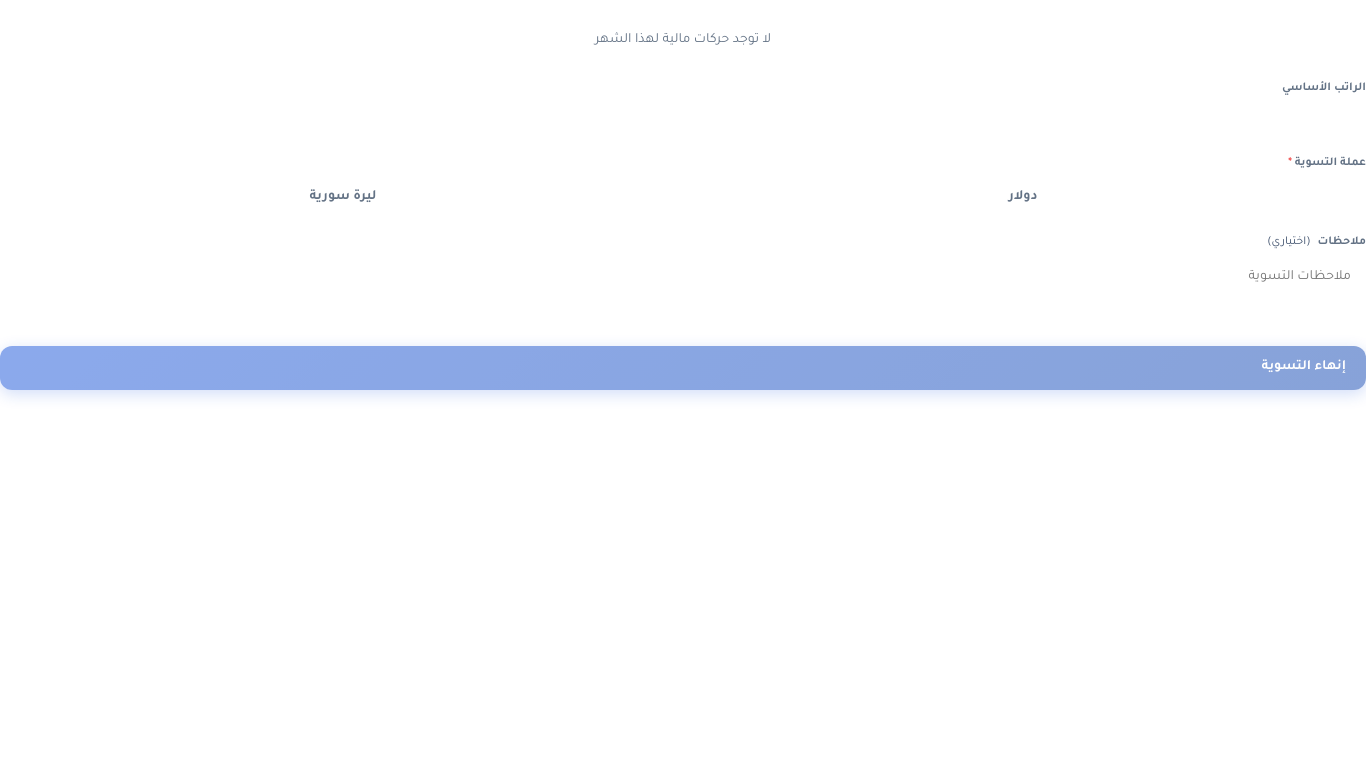
Scenario: SettlementDraftView › shows the "already finalized elsewhere" message when finalize rejects with a unique-constraint style error
Click the button with test id "currency-usd" at (1023, 198), box [685,181,1361,214]
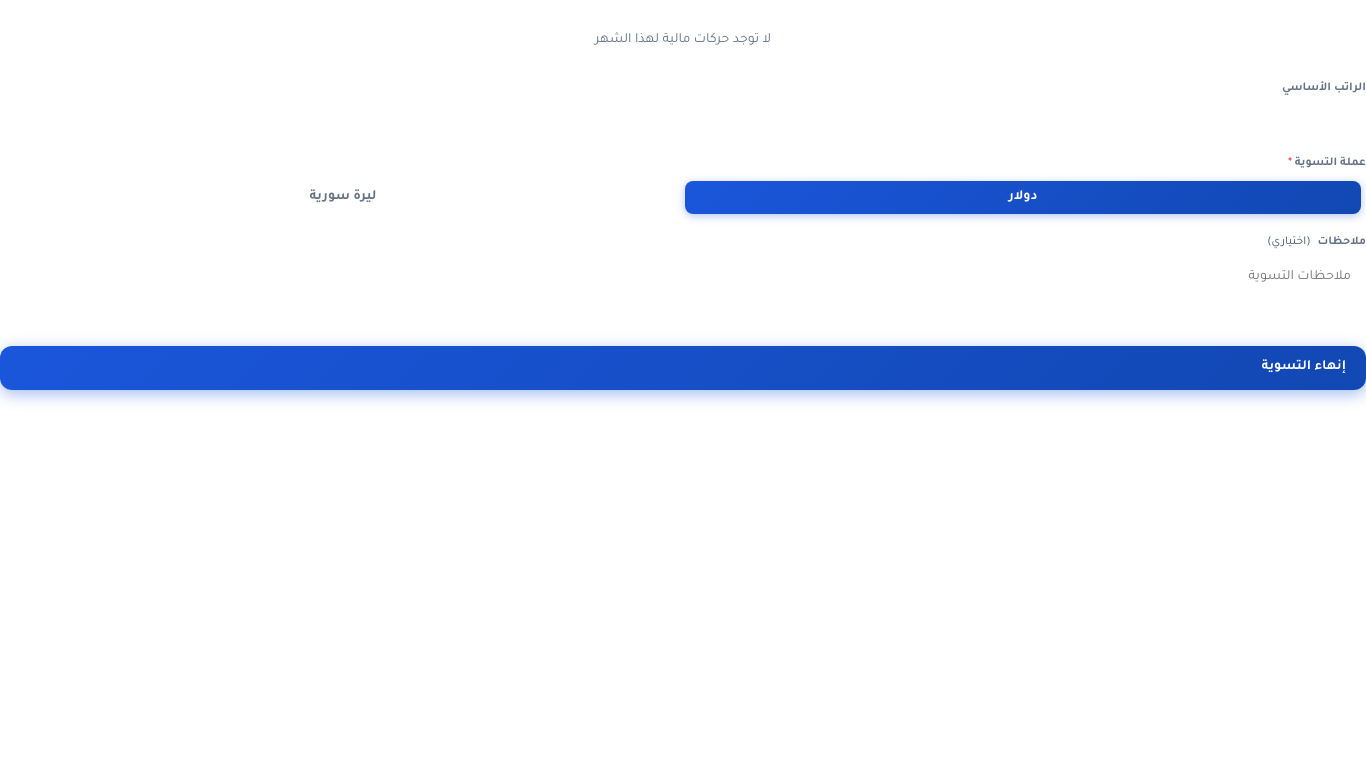
Click the button with test id "finalize-button" at (1304, 367), box [0,346,1365,390]
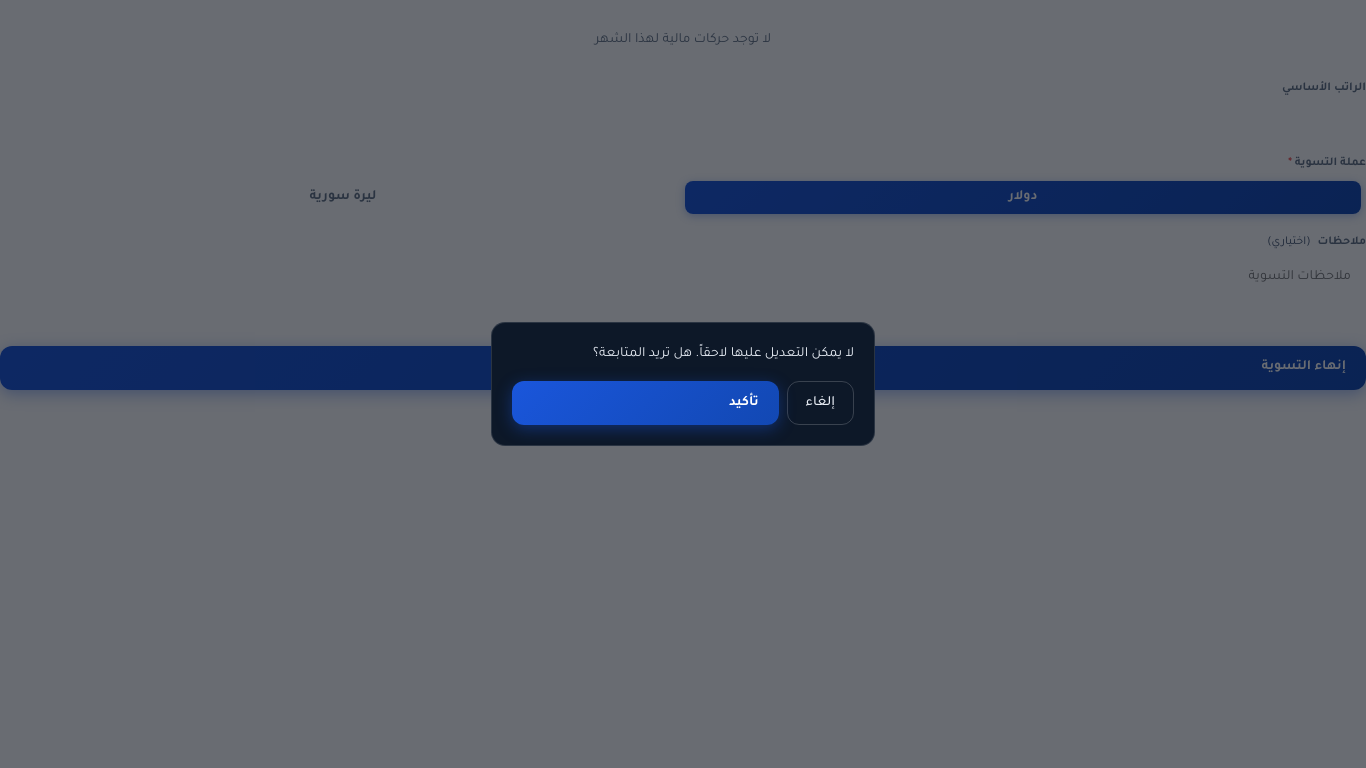
Click the button with test id "confirm-finalize-button" at (744, 403), box [512,381,779,425]
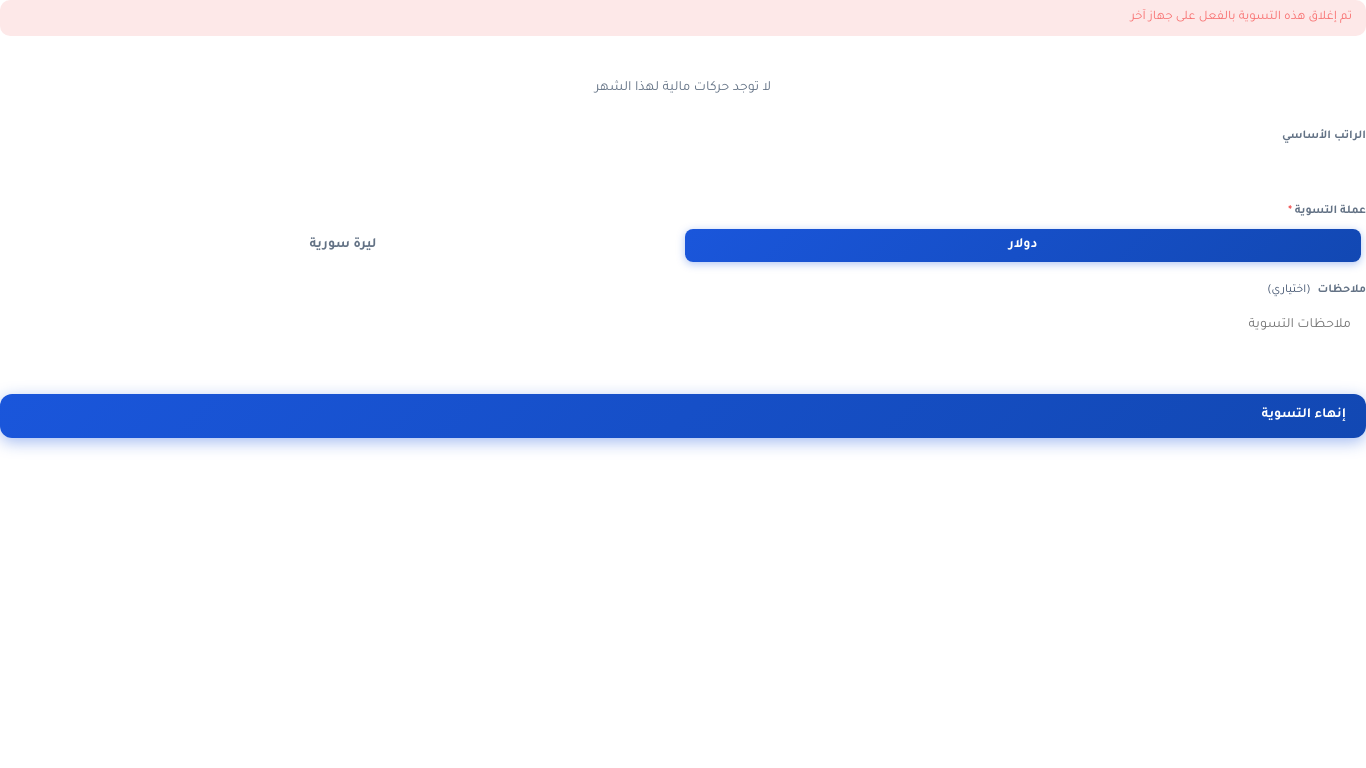
Expected: the text "تم إغلاق هذه التسوية بالفعل على جهاز آخر" is shown, [0,0,1365,36]
